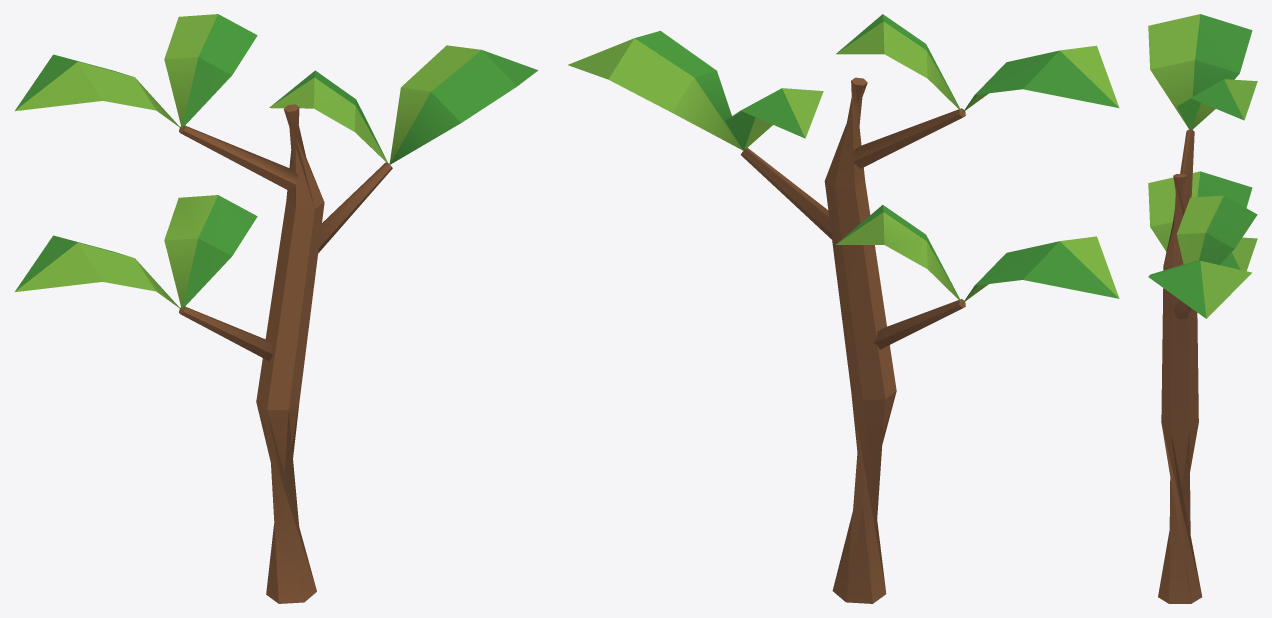
The model's file is Apple_2.glb.
3 views of the same model, side by side, from view 1: azimuth 30°, elevation 25°; view 2: azimuth 150°, elevation 25°; view 3: azimuth 270°, elevation 25° (orthographic). The views are drawn at different scales.
Parts seen in each view (by area): view 1: Apple_2; view 2: Apple_2; view 3: Apple_2.
Boxes of the visible parts, box(x1,y1,x2,y2) form: Apple_2: box(15, 14, 538, 603); Apple_2: box(568, 14, 1119, 603); Apple_2: box(1148, 14, 1257, 603).
Bounding box in the file's own units: 0.7577 × 0.7928 × 0.1577.
